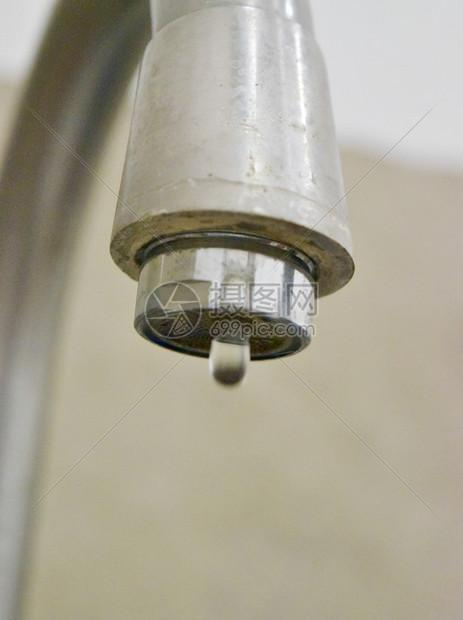water drop: (207, 332, 251, 388)
